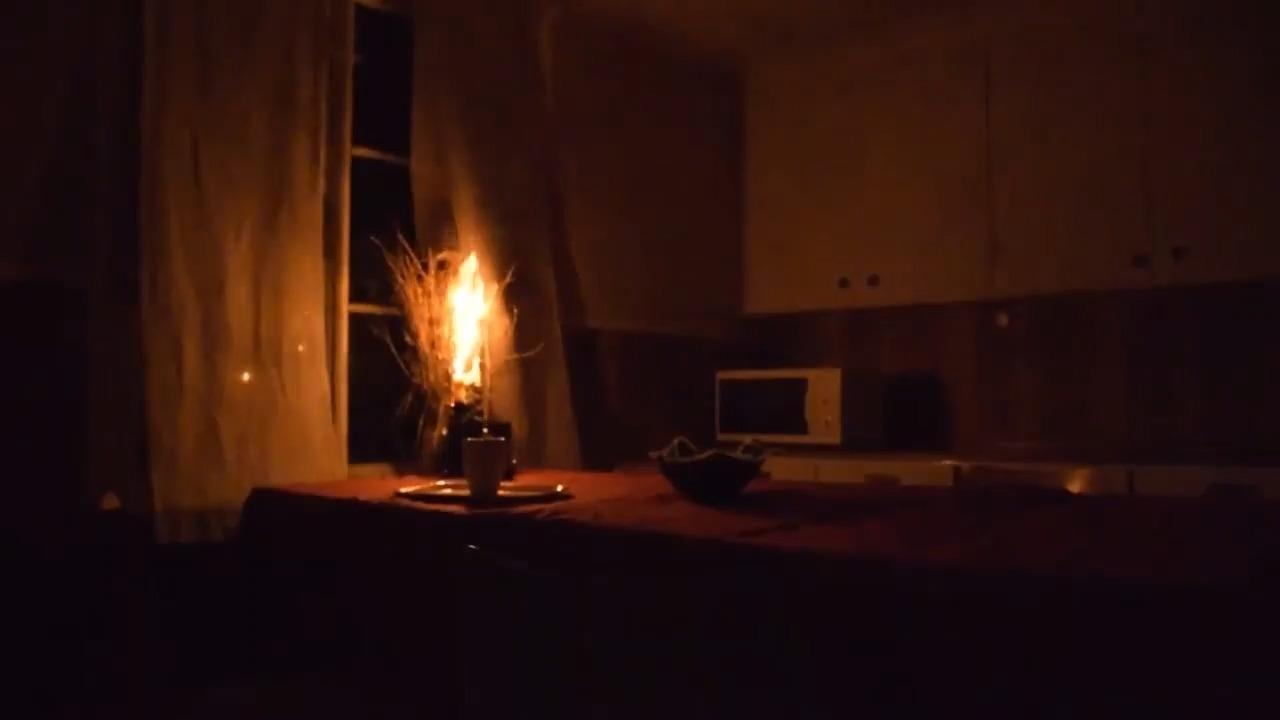fire: (400, 175, 548, 440)
